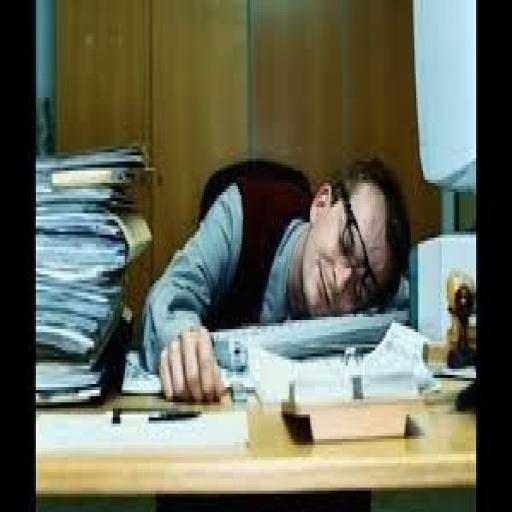sleeping: (138, 152, 412, 402)
